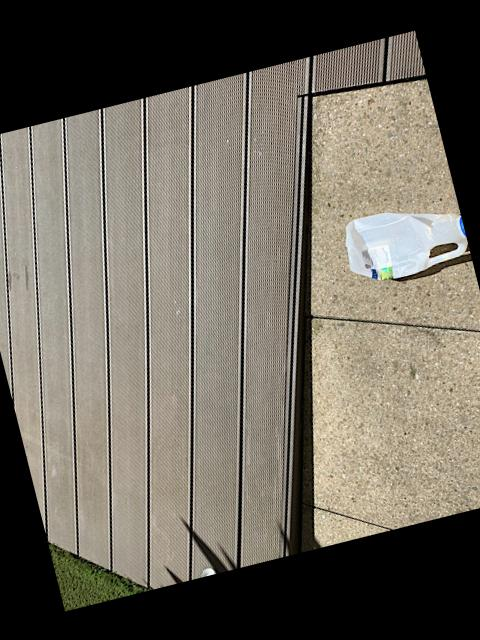plastic: (345, 213, 468, 280)
